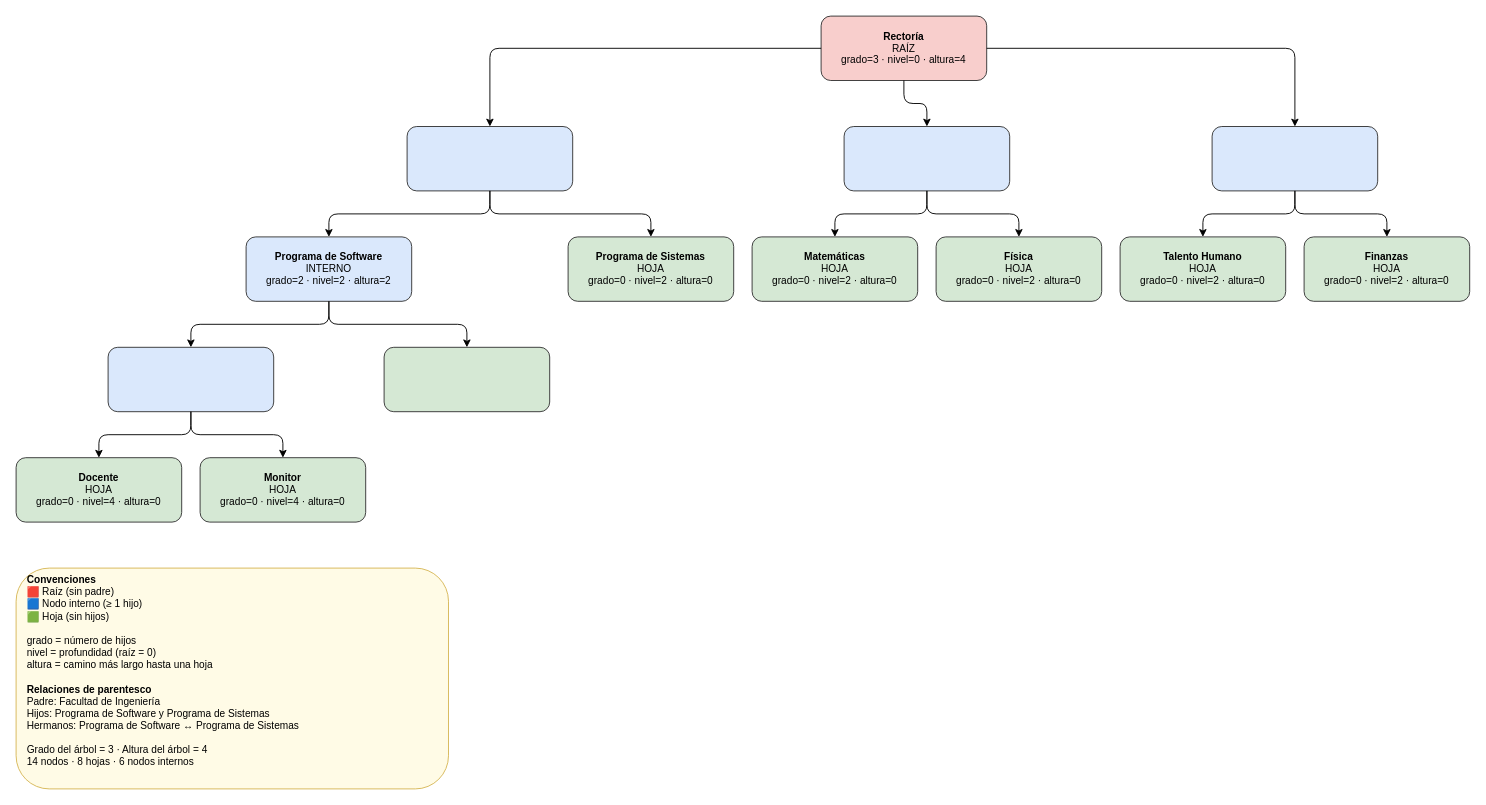
This 1486x805 diagram has some shape labels left out. The centre of each missing label's shape, as x and y in pixels:
Administración INTERNO grado=2 · nivel=1 · altura=1: the point at 1294,158
Coordinación Académica INTERNO grado=2 · nivel=3 · altura=1: the point at 190,379
Facultad de Ciencias INTERNO grado=2 · nivel=1 · altura=1: the point at 926,158
Facultad de Ingeniería INTERNO grado=2 · nivel=1 · altura=3: the point at 489,158
Laboratorios HOJA grado=0 · nivel=3 · altura=0: the point at 466,379
